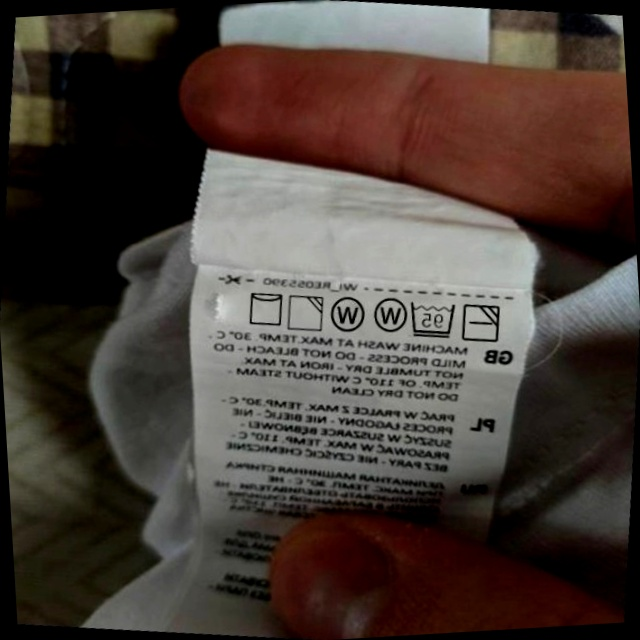95C: (405, 296, 459, 342)
dry_flat_in_shade: (459, 298, 505, 347)
line_dry: (242, 286, 288, 330)
shade_dry: (283, 290, 328, 335)
wet_clean: (326, 292, 369, 337), (368, 291, 410, 337)
